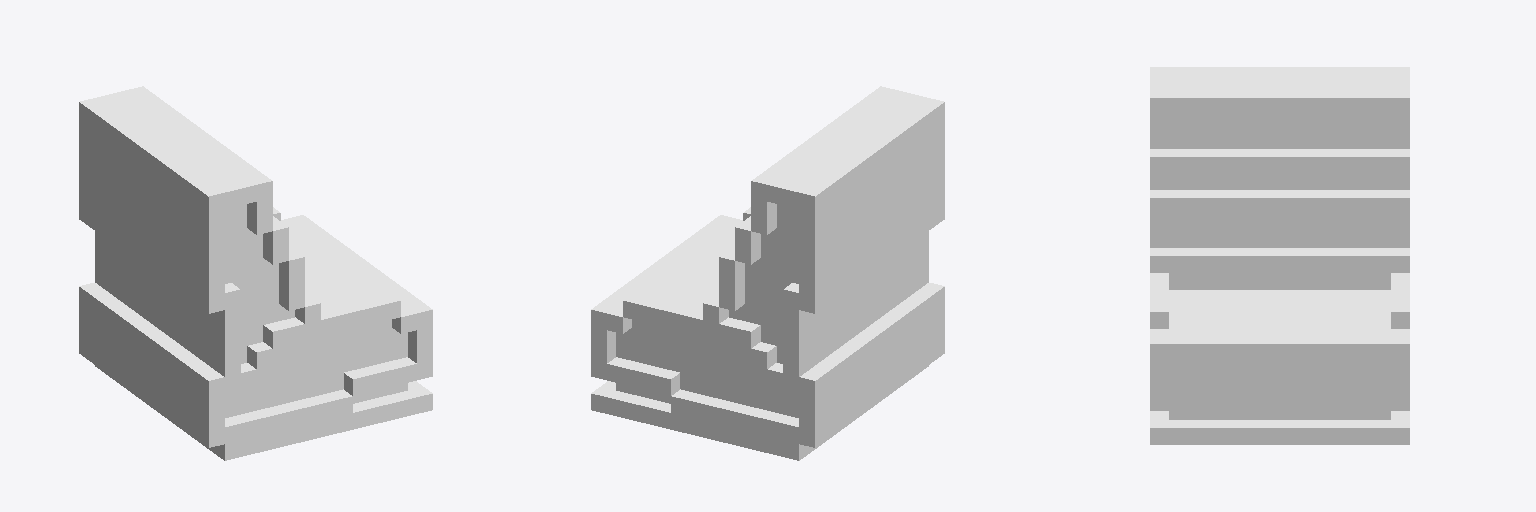
Rendered from couch_aux.obj.
3 views of the same model, side by side, from view 1: azimuth 30°, elevation 25°; view 2: azimuth 150°, elevation 25°; view 3: azimuth 270°, elevation 25° (orthographic).
Parts seen in each view (by area): view 1: couch_aux; view 2: couch_aux; view 3: couch_aux.
Part boxes in pixels (x1,y1,x2,y2): couch_aux: (79, 86, 432, 460); couch_aux: (591, 86, 944, 460); couch_aux: (1150, 67, 1409, 444).
Size of the model in its own units: 14 by 16 by 14.